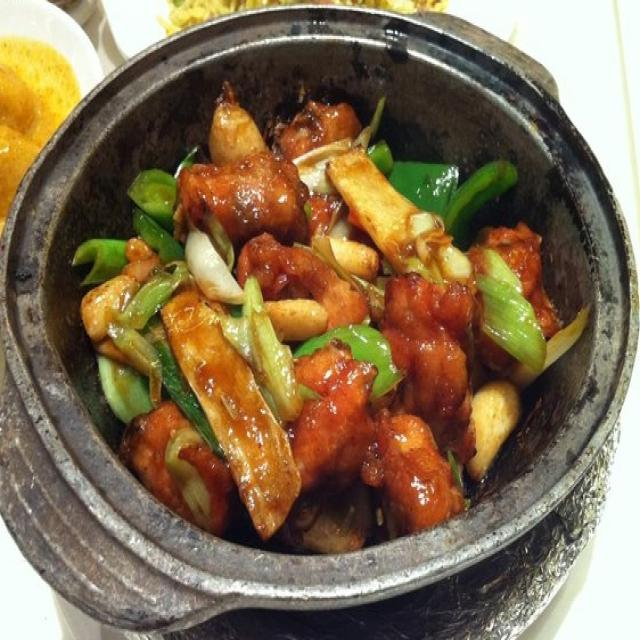鸡肉料理 含炸鸡: (20, 27, 628, 593)
